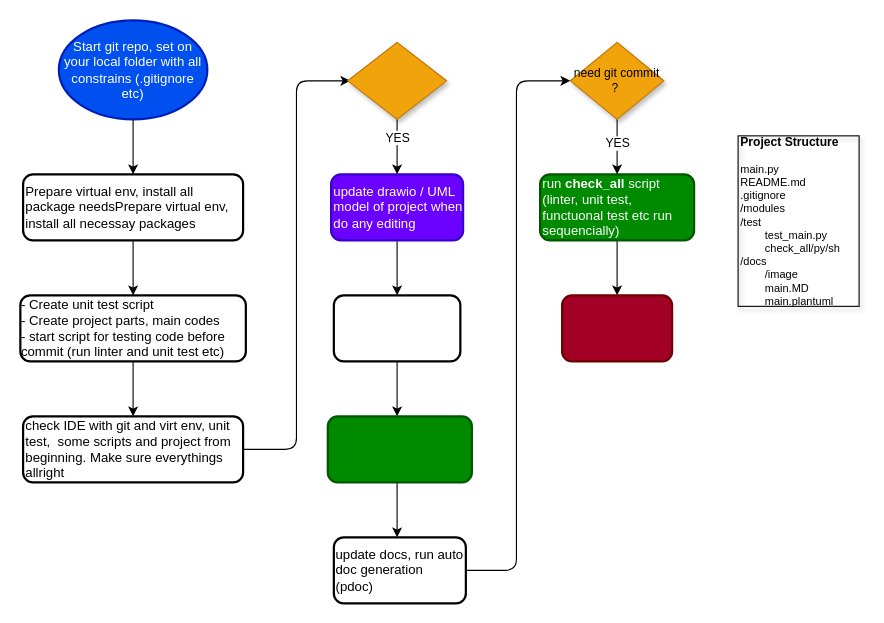
This 884x623 diagram has some shape labels left out. The shapes that lost their labels are listed below. From the top down, each one's centre as x and y in pixels, then its label:
At pixel 397 82: "need any code update?".
At pixel 396 328: "do any code update and extentions".
At pixel 616 328: "Can commit via GIT !!!".
At pixel 399 449: "- update and run unit test - run linter and make sure all codes OK (plint)".
